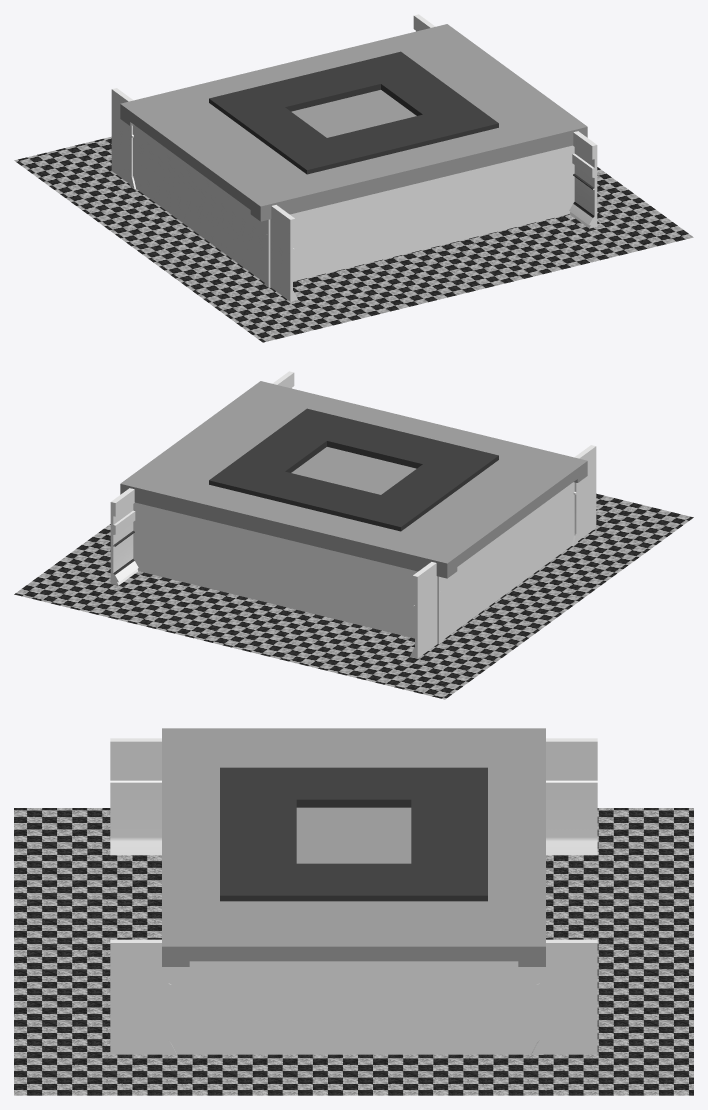
File: Boss_scene 1.fbx
3 views of the same model, one above another, from view 1: azimuth 30°, elevation 25°; view 2: azimuth 150°, elevation 25°; view 3: azimuth 270°, elevation 25° (orthographic). The views are drawn at different scales.
Parts seen in each view (by area): view 1: pPlane1, pCube42, pCube22, pCube41, pCube31, pCube43, pCube32, pCube40; view 2: pPlane1, pCube42, pCube22, pCube41, pCube31, pCube43, pCube32, pCube40; view 3: pPlane1, pCube42, pCube32, pCube41, pCube40, pCube31, pCube43.
Boxes of the visible parts, x1=… form: pPlane1: x1=14, y1=136, x2=693, y2=342; pCube42: x1=120, y1=24, x2=587, y2=221; pCube22: x1=264, y1=145, x2=574, y2=287; pCube41: x1=209, y1=51, x2=498, y2=174; pCube31: x1=111, y1=88, x2=297, y2=301; pCube43: x1=291, y1=90, x2=416, y2=137; pCube32: x1=413, y1=14, x2=597, y2=228; pCube40: x1=569, y1=153, x2=597, y2=225; pPlane1: x1=14, y1=493, x2=693, y2=699; pCube42: x1=120, y1=381, x2=587, y2=578; pCube22: x1=133, y1=502, x2=443, y2=644; pCube41: x1=209, y1=408, x2=498, y2=531; pCube31: x1=410, y1=445, x2=596, y2=658; pCube43: x1=291, y1=447, x2=416, y2=494; pCube32: x1=110, y1=371, x2=294, y2=585; pCube40: x1=110, y1=510, x2=138, y2=582; pPlane1: x1=14, y1=808, x2=693, y2=1095; pCube42: x1=162, y1=728, x2=545, y2=966; pCube32: x1=110, y1=939, x2=597, y2=1054; pCube41: x1=220, y1=767, x2=487, y2=901; pCube40: x1=110, y1=973, x2=597, y2=1049; pCube31: x1=110, y1=738, x2=597, y2=855; pCube43: x1=296, y1=807, x2=411, y2=863.
Size of the model in its own units: 25.65 by 5.06 by 25.65.
